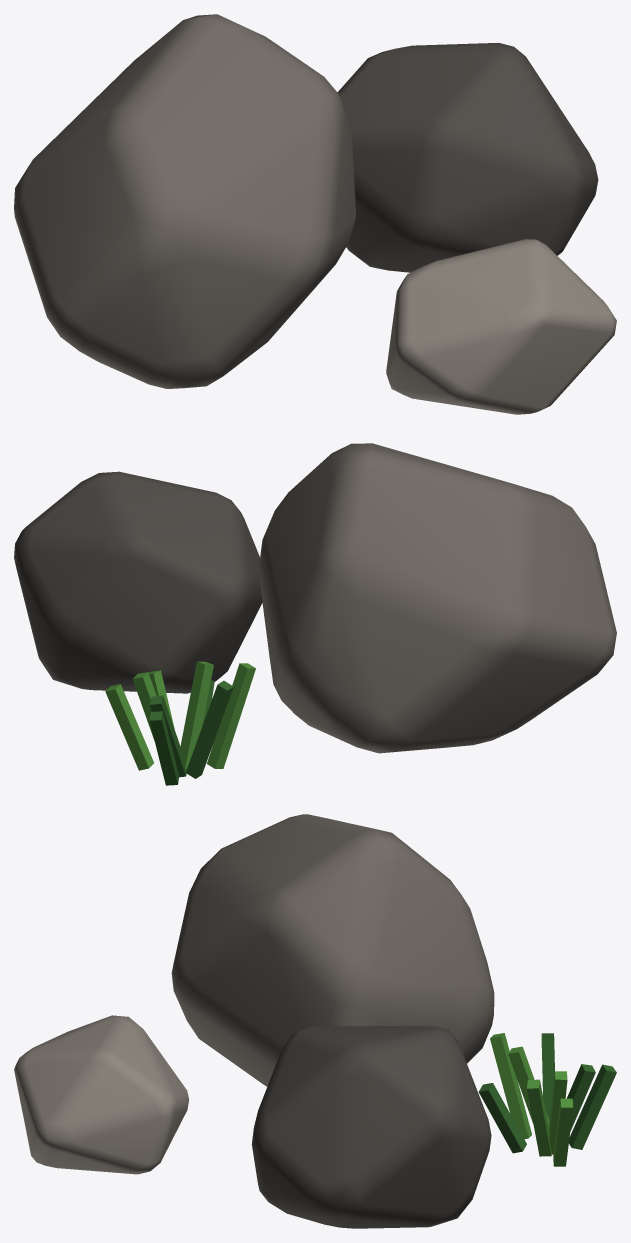
Rendered from rocher_prairie_2.glb.
3 views of the same model, one above another, from view 1: azimuth 30°, elevation 25°; view 2: azimuth 150°, elevation 25°; view 3: azimuth 270°, elevation 25° (orthographic). The views are drawn at different scales.
Parts seen in each view (by area): view 1: roche_pierre.012, roche_pierre_sombre.010, roche_pierre_claire.006; view 2: roche_pierre.012, roche_pierre_sombre.010, herbe_feuille.004, herbe_feuille_sombre.002; view 3: roche_pierre.012, roche_pierre_sombre.010, roche_pierre_claire.006, herbe_feuille.004, herbe_feuille_sombre.002.
Boxes of the visible parts, bbox=[...] form: roche_pierre.012: bbox=[14, 14, 356, 388]; roche_pierre_sombre.010: bbox=[337, 43, 598, 272]; roche_pierre_claire.006: bbox=[386, 239, 616, 414]; roche_pierre.012: bbox=[259, 443, 616, 753]; roche_pierre_sombre.010: bbox=[14, 471, 262, 693]; herbe_feuille.004: bbox=[105, 661, 255, 770]; herbe_feuille_sombre.002: bbox=[149, 680, 233, 785]; roche_pierre.012: bbox=[171, 814, 494, 1086]; roche_pierre_sombre.010: bbox=[251, 1026, 491, 1228]; roche_pierre_claire.006: bbox=[14, 1015, 189, 1174]; herbe_feuille.004: bbox=[490, 1033, 573, 1166]; herbe_feuille_sombre.002: bbox=[479, 1033, 616, 1153].
Size of the model in its own units: 0.8665 by 0.4354 by 0.8678.
